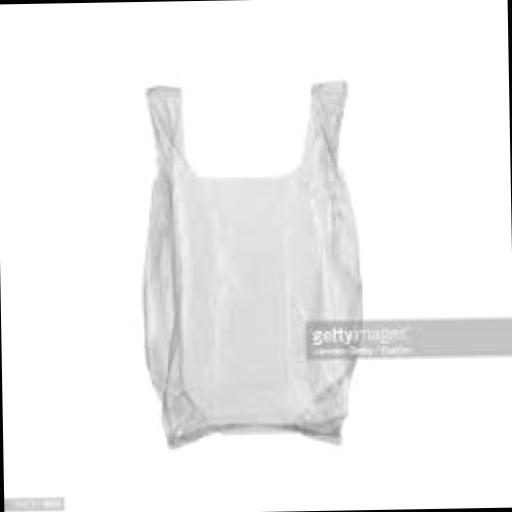plastic: (136, 80, 365, 446)
